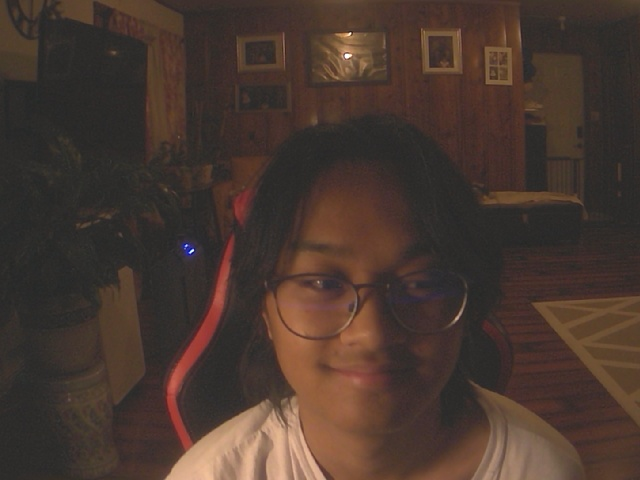happy: (226, 114, 504, 432)
